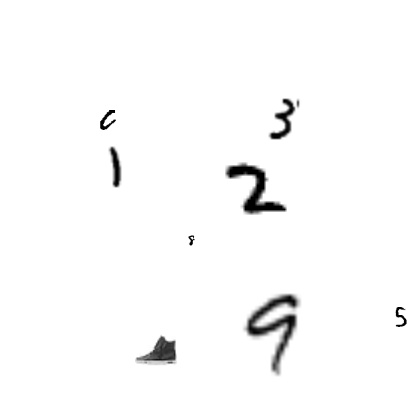1: (310, 312, 324, 326)
5: (87, 105, 143, 161)
7: (272, 217, 384, 329), (159, 400, 173, 414)
Bag: (162, 6, 190, 34)
Dress: (147, 62, 259, 174), (119, 345, 161, 387)
Sandal: (204, 14, 246, 56)
Shirt: (69, 333, 97, 361)
Sneaker: (19, 145, 47, 173)
